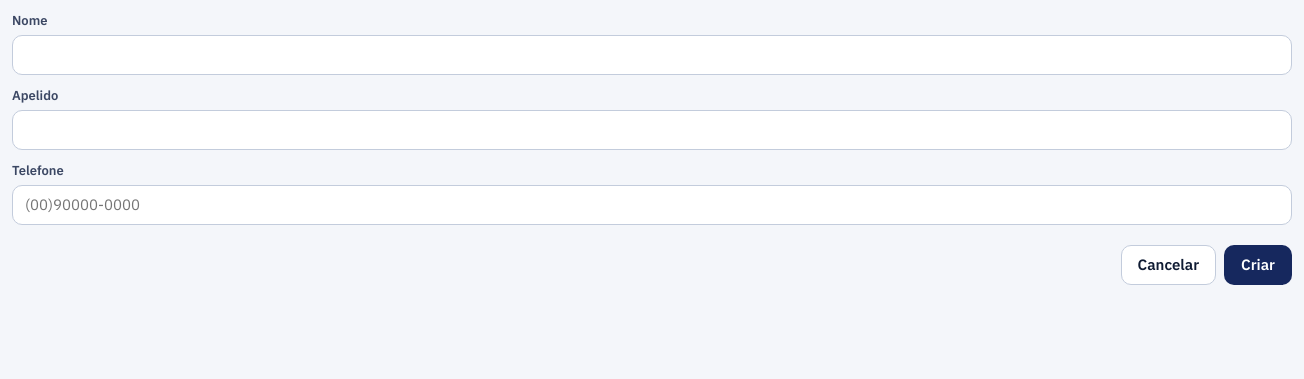
it: FormularioCliente › liga o erro de campo ao campo e mostra a mensagem geral num aviso
Step 1. Click the button "Criar" → {"x": 1258, "y": 264}, box [1224,244,1292,284]
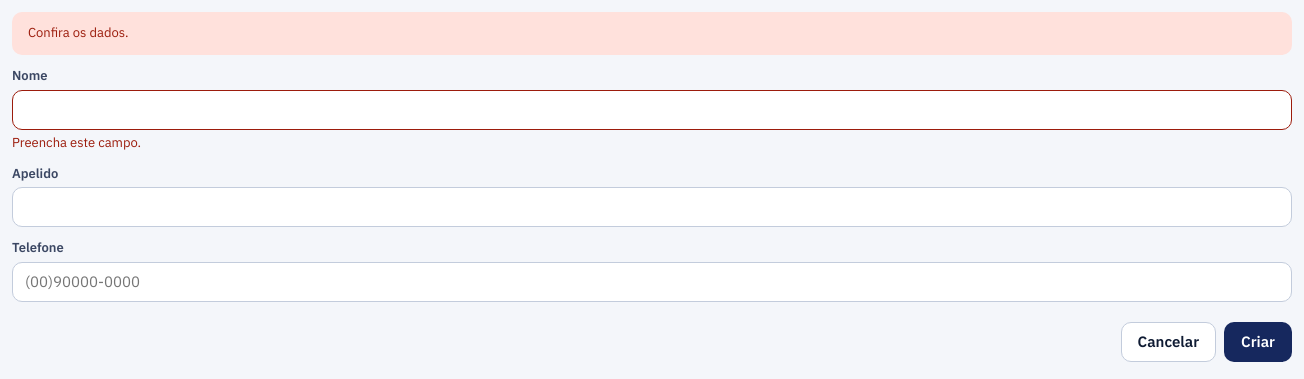
Now the message reads "Confira os dados.", box [28,24,129,41]
